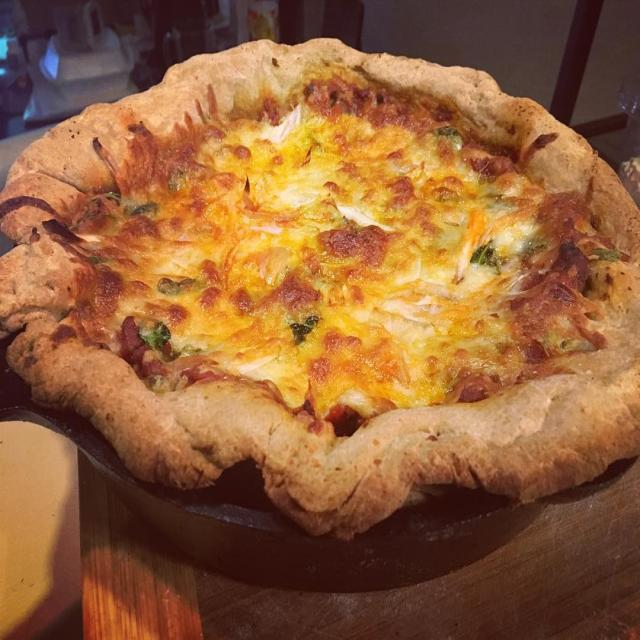basil: (136, 300, 178, 366), (96, 183, 162, 222), (468, 232, 510, 276), (286, 302, 318, 356), (437, 123, 466, 163)
pizza: (0, 40, 640, 538)
